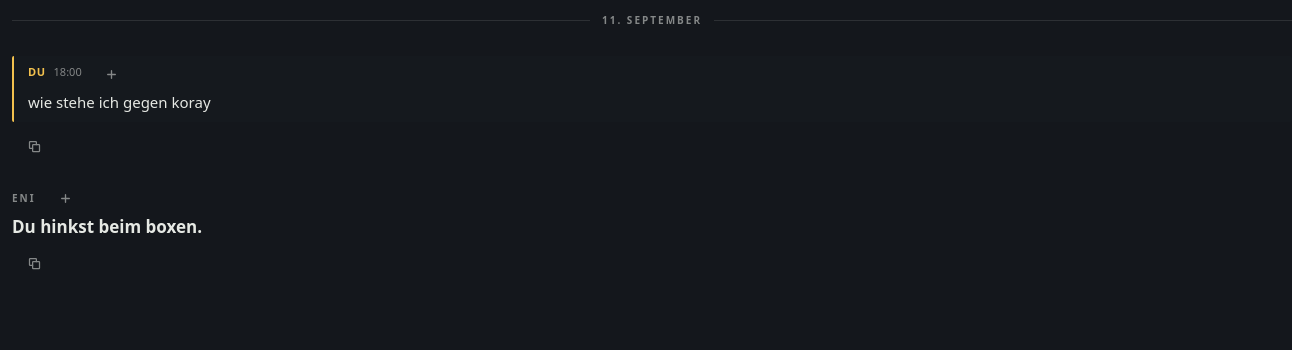
notizen im verlauf › zeigt beide wege erst, wenn jemand danach fragt
What coordinates should you click on to do the following:
click the button named "diese zeile notieren" next to "ENI"
I would click on:
 (66, 198)
Its box is x1=44 y1=176 x2=88 y2=220.
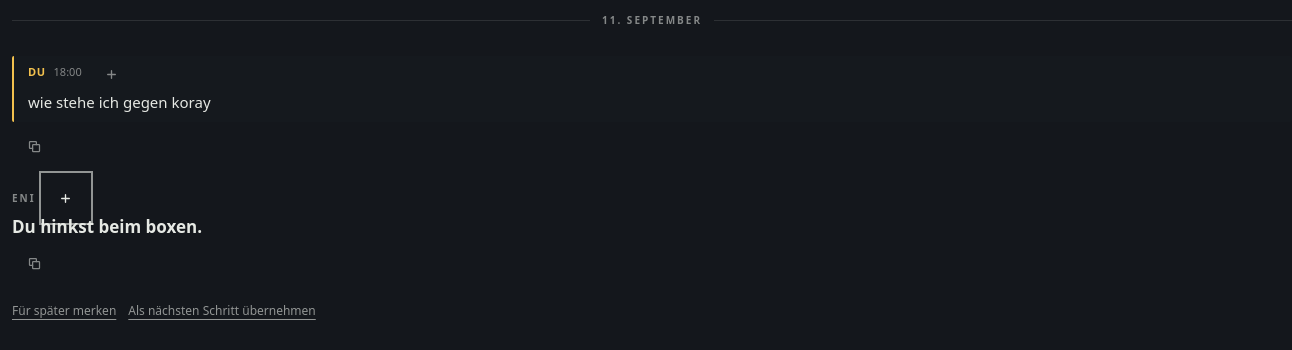
What coordinates should you click on to do the following:
click the button "Als nächsten Schritt übernehmen"
I would click on:
 (222, 311)
Its box is x1=128 y1=289 x2=316 y2=333.
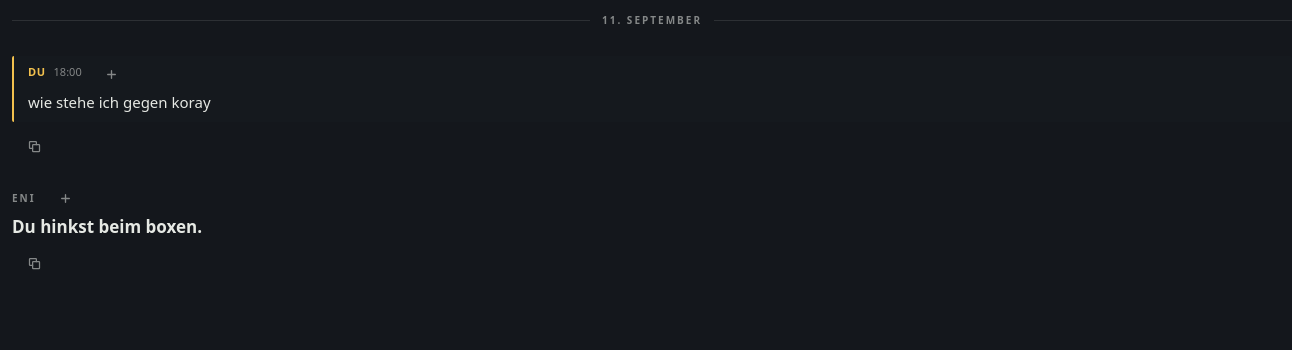
Expected: the button "Als nächsten Schritt übernehmen" is gone
